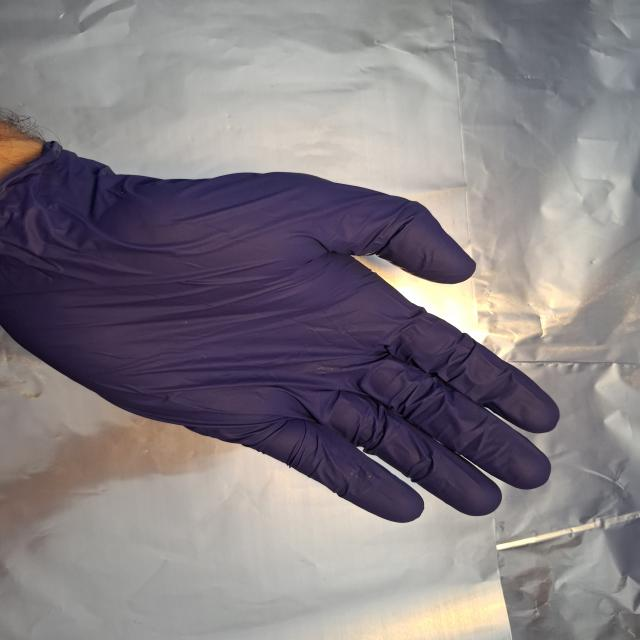glove_on: (0, 140, 564, 528)
